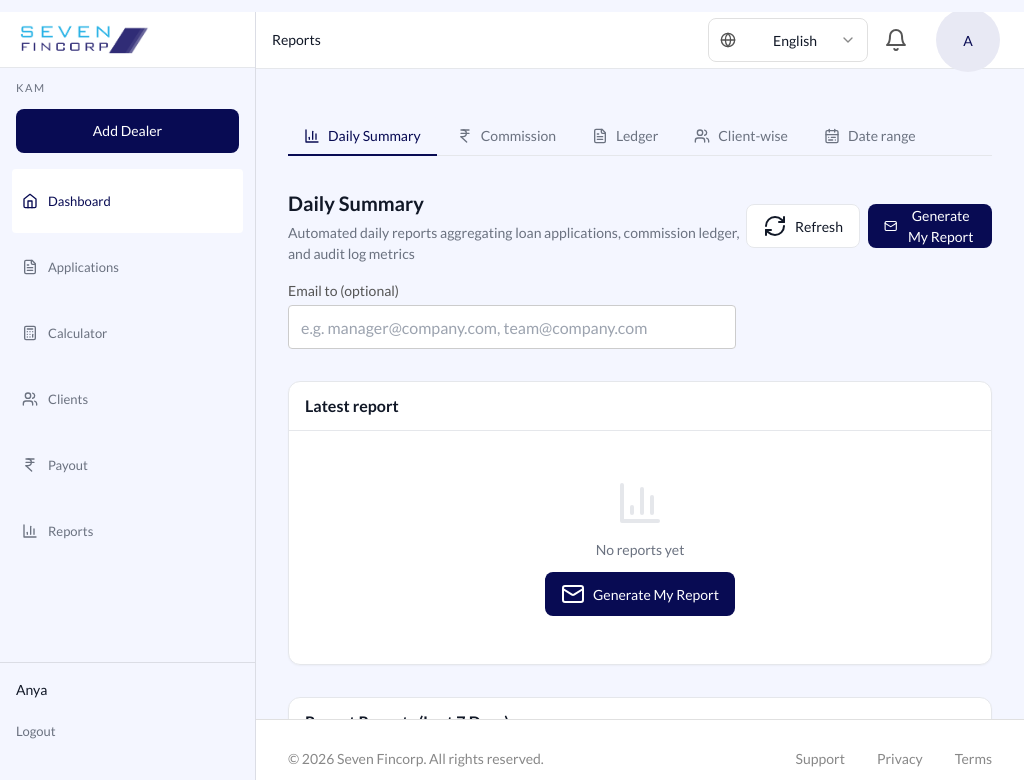
Scenario: Reports page for a KAM › renders the monthly commission report
This screenshot has width=1024, height=780.
Expected: the 1st button "Generate My Report" is shown, [868, 204, 992, 248]
Click the button "Commission" at (506, 136), box [441, 117, 572, 156]
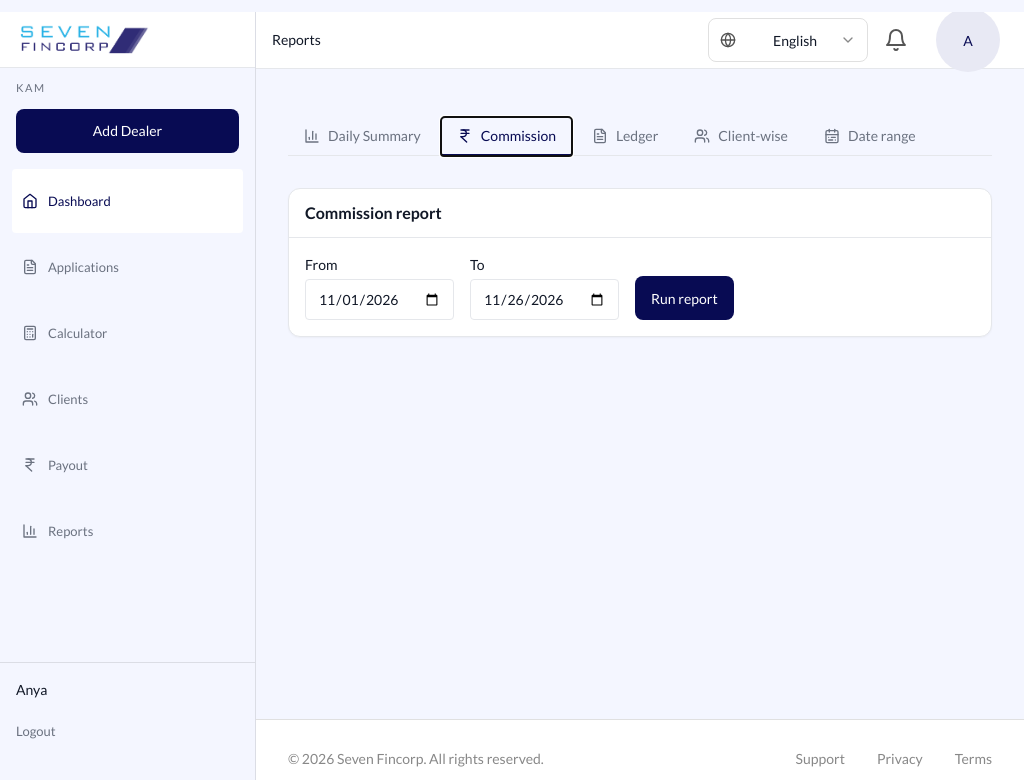
Click the button "Run report" at (684, 298), box [635, 276, 734, 320]
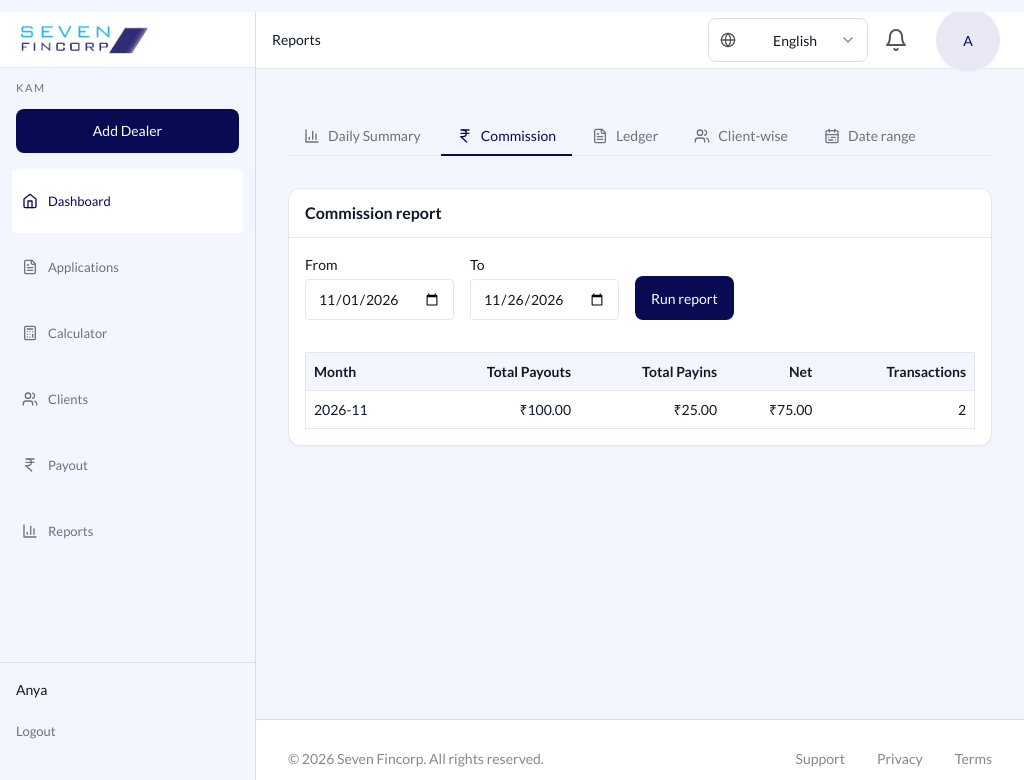
Result: the text "2026-11" is shown at [306, 390, 418, 428]
